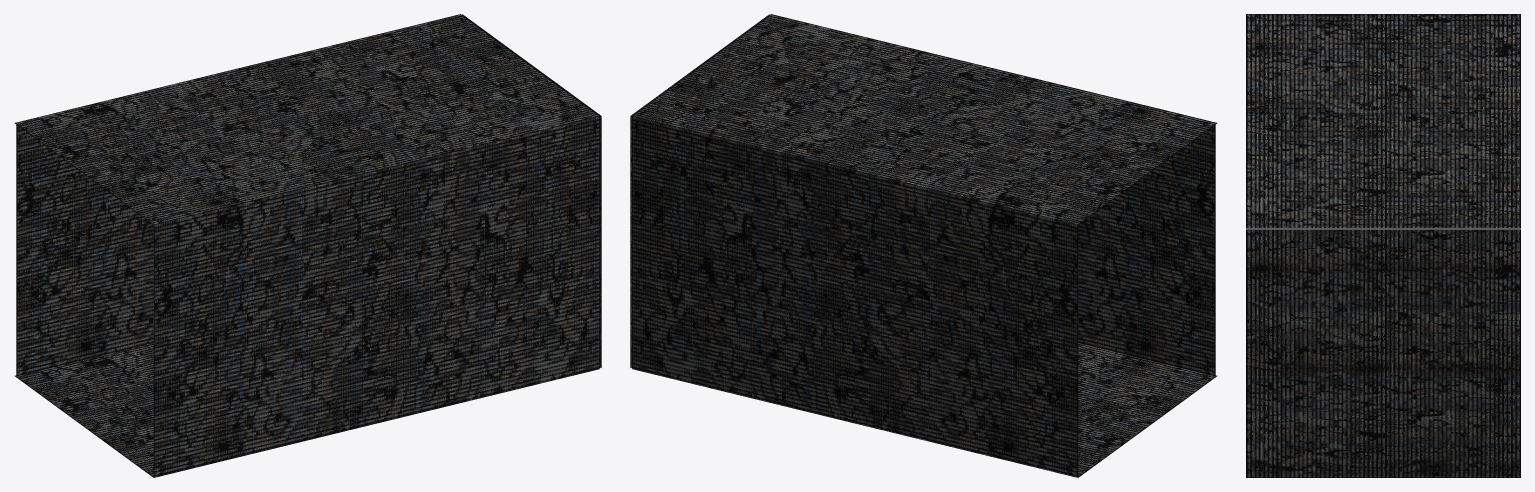
The model's file is asciibox.glb.
3 renders of one model, left to right at view 1: azimuth 30°, elevation 25°; view 2: azimuth 150°, elevation 25°; view 3: azimuth 270°, elevation 25°, orthographic.
Visible parts, largest first — view 1: asciiwall, asciiwall.004, asciiwall.001, asciiwall.002, asciiwall.003; view 2: asciiwall.001, asciiwall.004, asciiwall, asciiwall.002, asciiwall.003; view 3: asciiwall.003, asciiwall.004.
Part boxes in pixels (box(x1,y1,x2,y2)): asciiwall: box(153, 115, 600, 476); asciiwall.004: box(14, 14, 599, 224); asciiwall.001: box(16, 14, 462, 376); asciiwall.002: box(14, 343, 599, 477); asciiwall.003: box(462, 14, 601, 367); asciiwall.001: box(631, 115, 1078, 476); asciiwall.004: box(632, 14, 1217, 224); asciiwall: box(769, 14, 1215, 376); asciiwall.002: box(632, 343, 1217, 477); asciiwall.003: box(630, 14, 769, 367); asciiwall.003: box(1246, 229, 1520, 477); asciiwall.004: box(1246, 14, 1520, 228).
Size of the model in its own units: 1.85 by 1 by 1.
5 materials, 5 textured.
